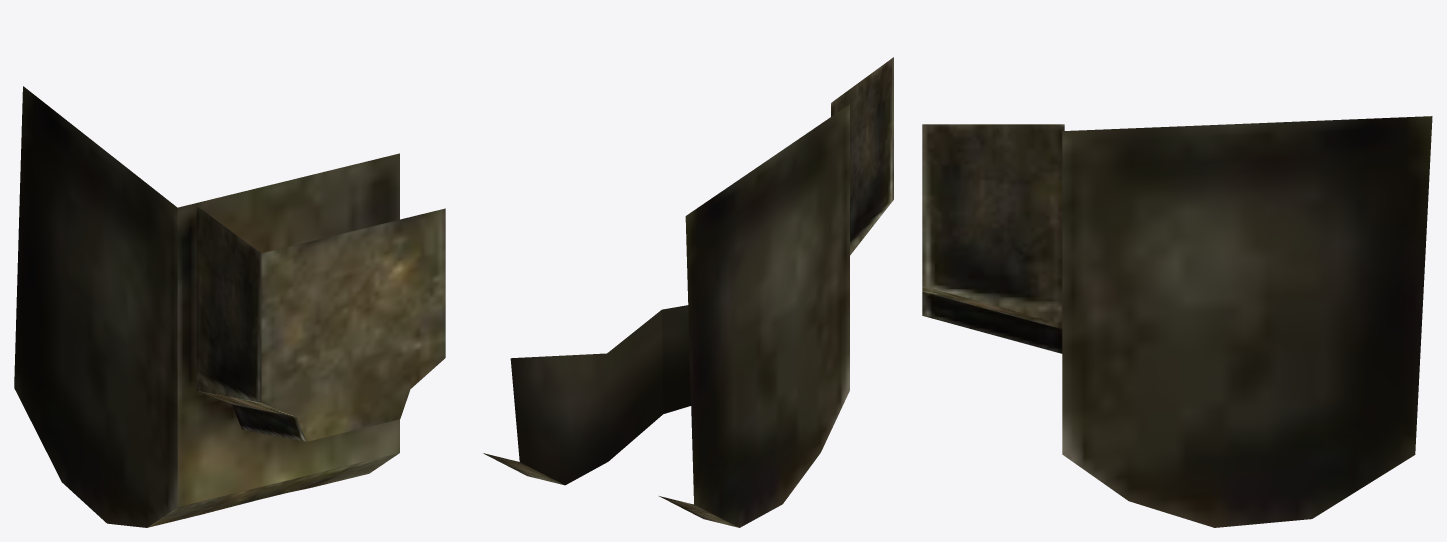
The picture shows the model from 3 angles, left to right: view 1: azimuth 30°, elevation 25°; view 2: azimuth 150°, elevation 25°; view 3: azimuth 270°, elevation 25°; orthographic projection. The views are drawn at different scales.
Visible parts, largest first — view 1: model_Object43; view 2: model_Object43; view 3: model_Object43.
Part boxes in pixels (x1,y1,x2,y2): model_Object43: (14,86,445,527); model_Object43: (483,57,893,527); model_Object43: (922,116,1432,527).
Size of the model in its own units: 1.57 by 2.57 by 2.89.
1 material, 1 textured.
